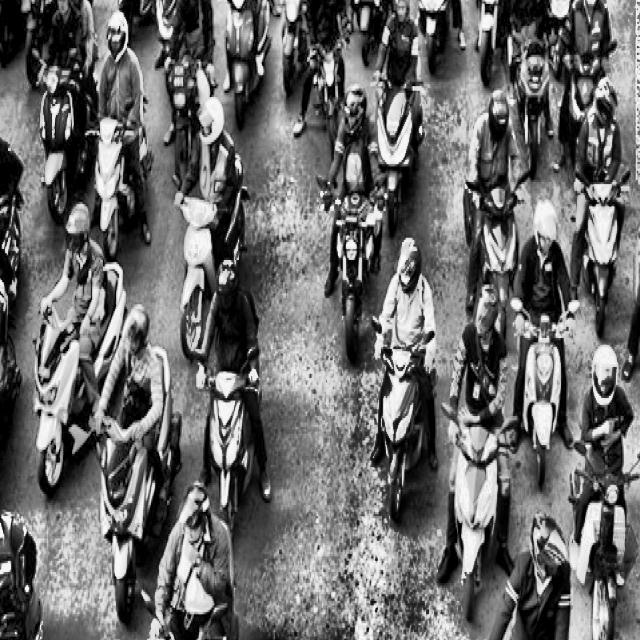Helmet: (526, 496, 573, 592), (530, 186, 568, 264), (388, 226, 427, 300), (465, 278, 501, 354), (587, 347, 625, 414), (54, 192, 96, 251), (176, 478, 212, 544), (209, 247, 245, 312), (122, 296, 155, 366), (483, 79, 515, 151), (591, 73, 624, 137), (101, 3, 132, 69), (339, 79, 373, 135), (194, 92, 227, 146), (0, 463, 7, 552)
